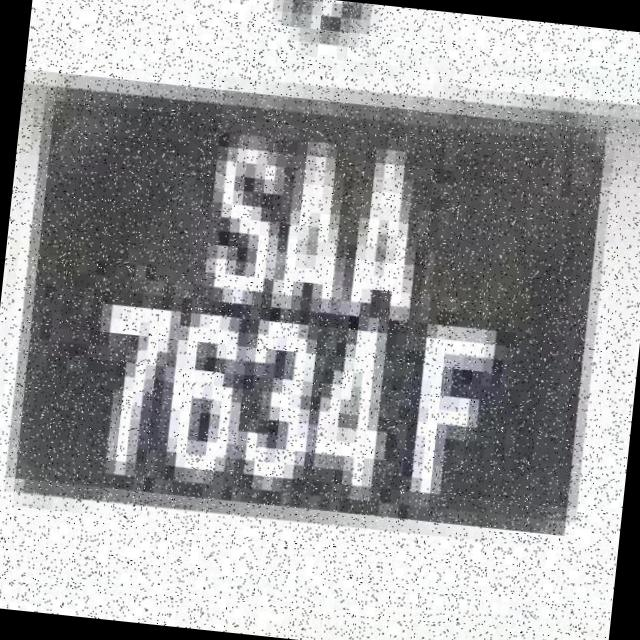LicensePlate: (0, 62, 615, 552)
